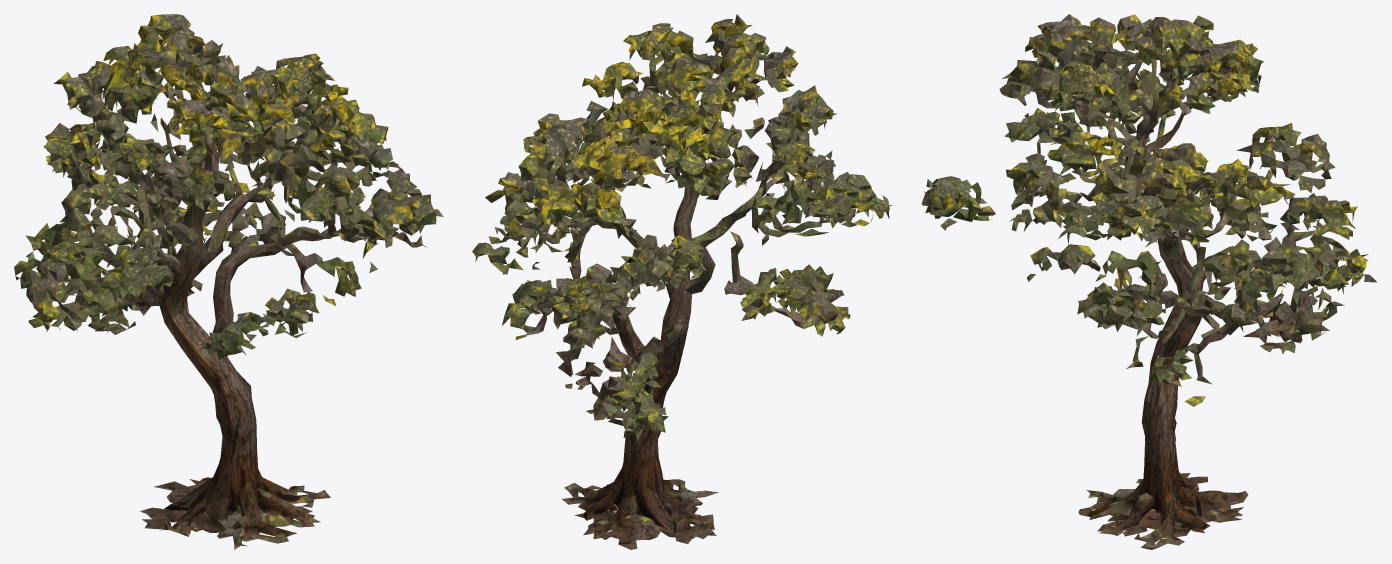
The model's file is generated-cerrado.glb.
3 renders of one model, left to right at view 1: azimuth 30°, elevation 25°; view 2: azimuth 150°, elevation 25°; view 3: azimuth 270°, elevation 25°, orthographic. The views are drawn at different scales.
Parts seen in each view (by area): view 1: tree-3-textured; view 2: tree-3-textured; view 3: tree-3-textured.
Boxes of the visible parts, bbox=[...] form: tree-3-textured: bbox=[14, 14, 443, 549]; tree-3-textured: bbox=[472, 14, 892, 549]; tree-3-textured: bbox=[921, 14, 1376, 549].
Size of the model in its own units: 1.59 by 1.95 by 1.72.
Materials: 1 (1 with a texture image).
